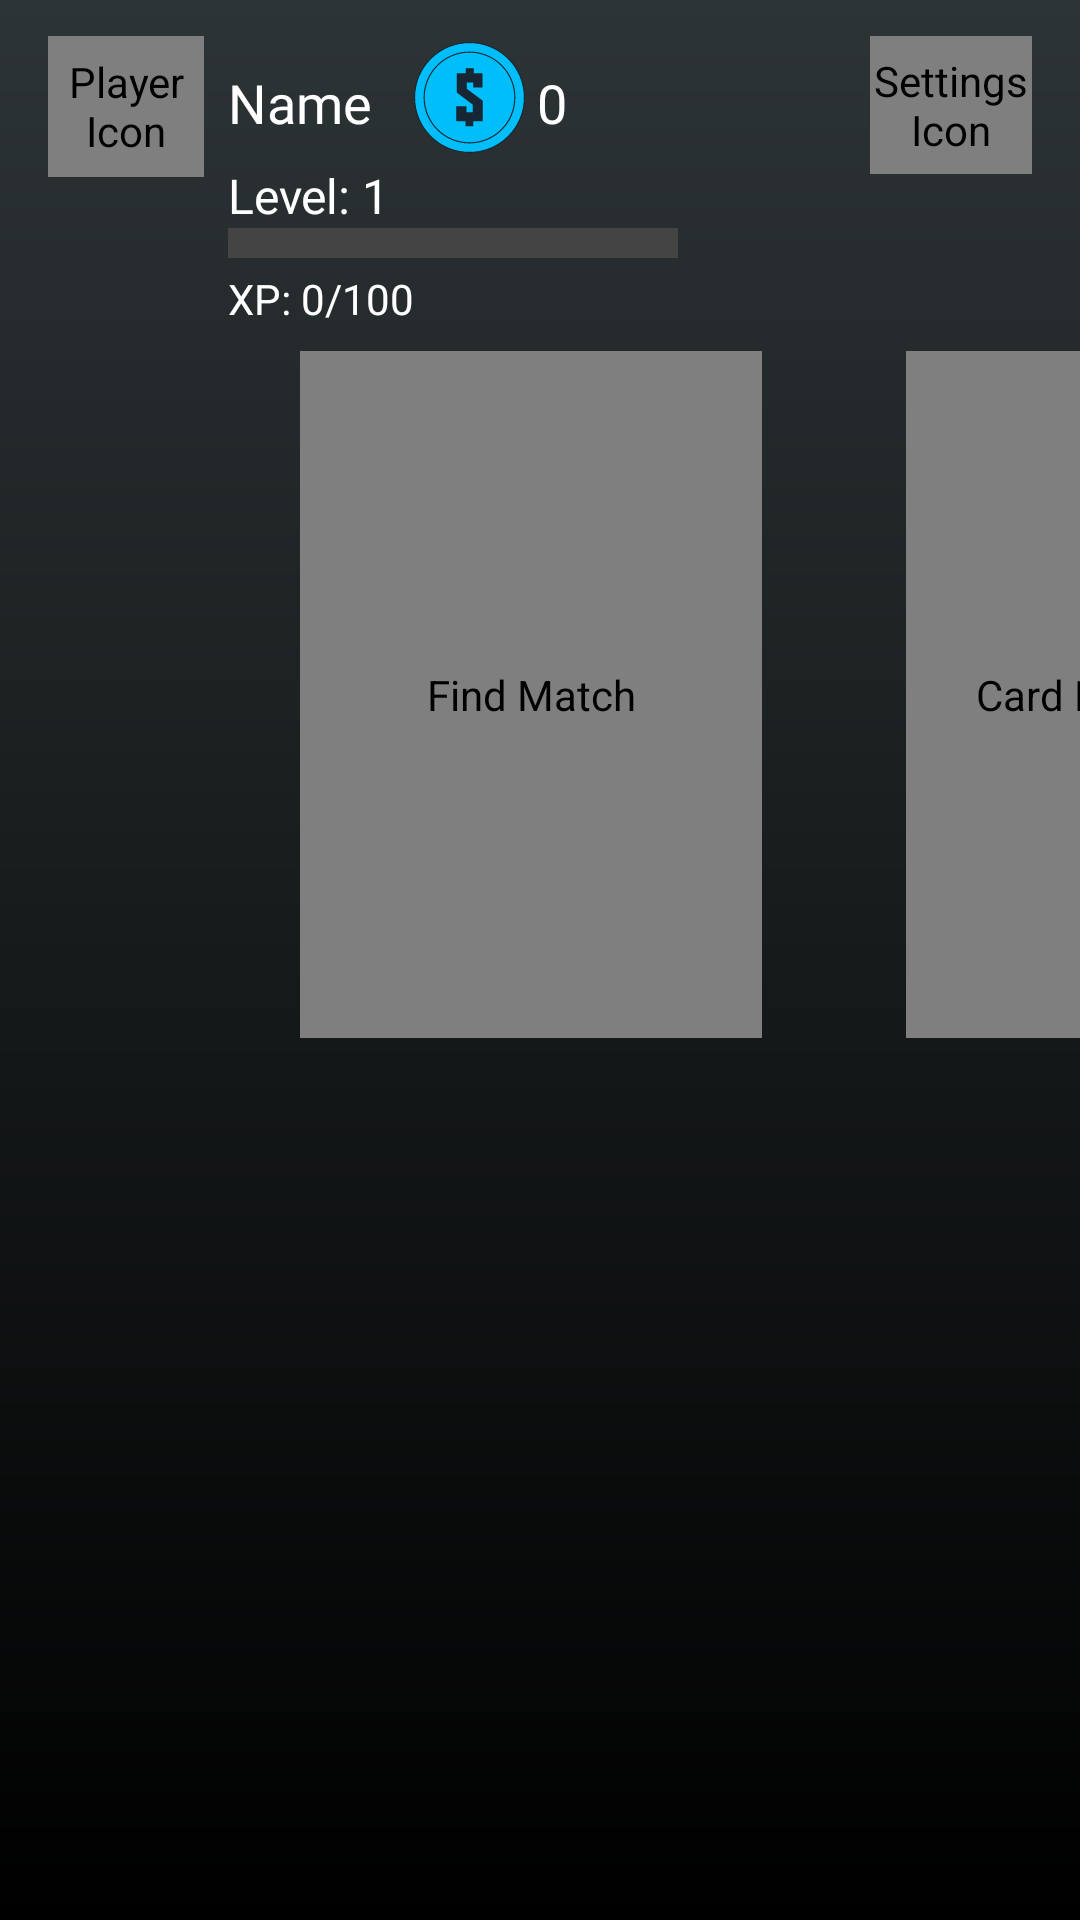

Locate icon controls on the screen. Image size 1080px×1920px, boxes as bbox(x1, y1, x2, y2).
Coins Icon: bbox(415, 43, 524, 152)
